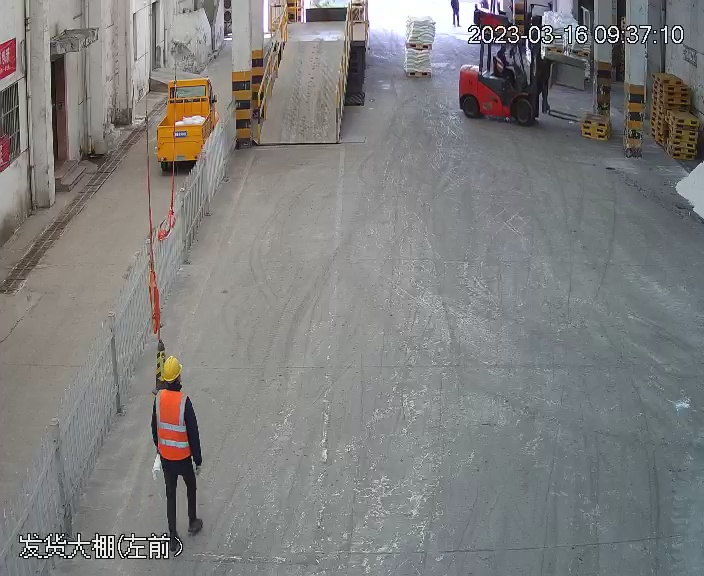head: (151, 354, 197, 418)
helmet: (161, 353, 184, 382)
people: (147, 354, 206, 550)
